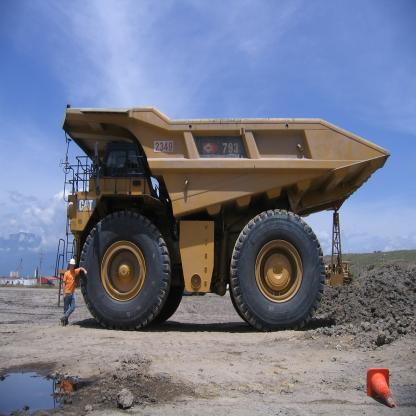dump_truck: (53, 100, 393, 332)
